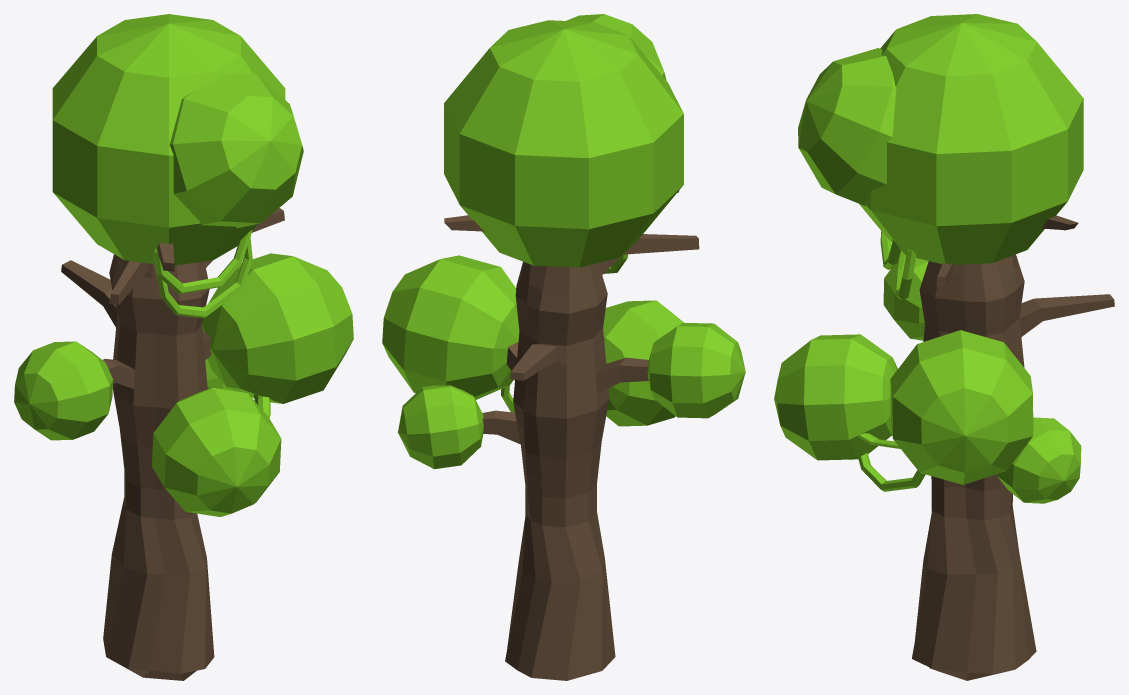
The model's file is Tree02.FBX.
3 views of the same model, side by side, from view 1: azimuth 30°, elevation 25°; view 2: azimuth 150°, elevation 25°; view 3: azimuth 270°, elevation 25° (orthographic).
Visible parts, largest first — view 1: Box002; view 2: Box002; view 3: Box002.
Part boxes in pixels (x1,y1,x2,y2): Box002: (14,14,353,680); Box002: (382,14,745,680); Box002: (774,14,1114,680).
Size of the model in its own units: 56.2 by 103 by 49.12.
